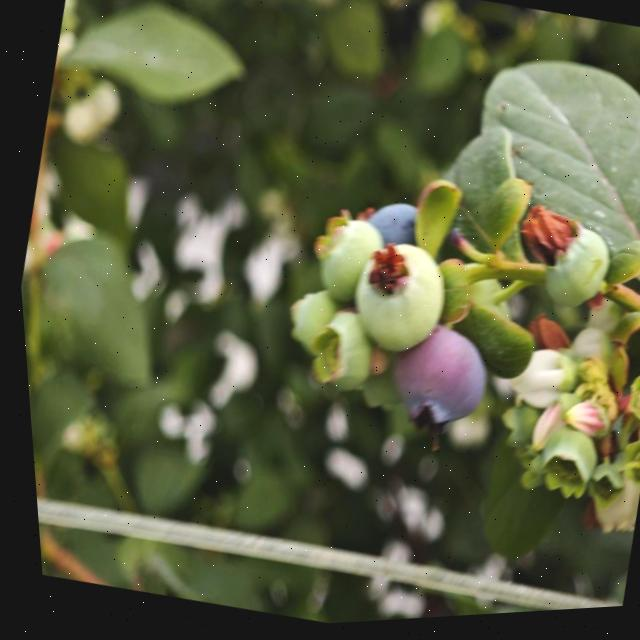Semi-RipeBlueBerry: (370, 317, 496, 445)
UnripeBlueBerry: (334, 233, 454, 370), (528, 222, 615, 326), (300, 212, 389, 313), (298, 307, 380, 404)
